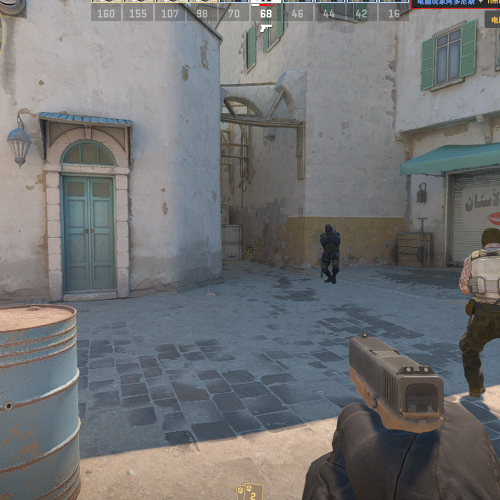ct_body: (319, 223, 340, 285)
ct_head: (324, 222, 334, 236)
t_body: (459, 226, 499, 396)
t_head: (479, 227, 499, 250)
